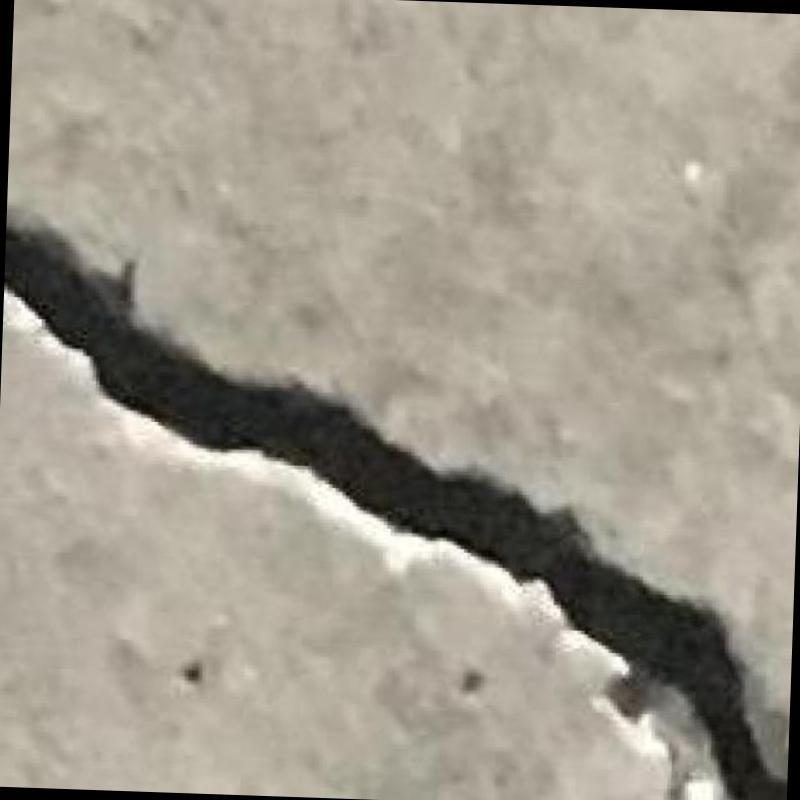crack: (4, 222, 786, 800)
